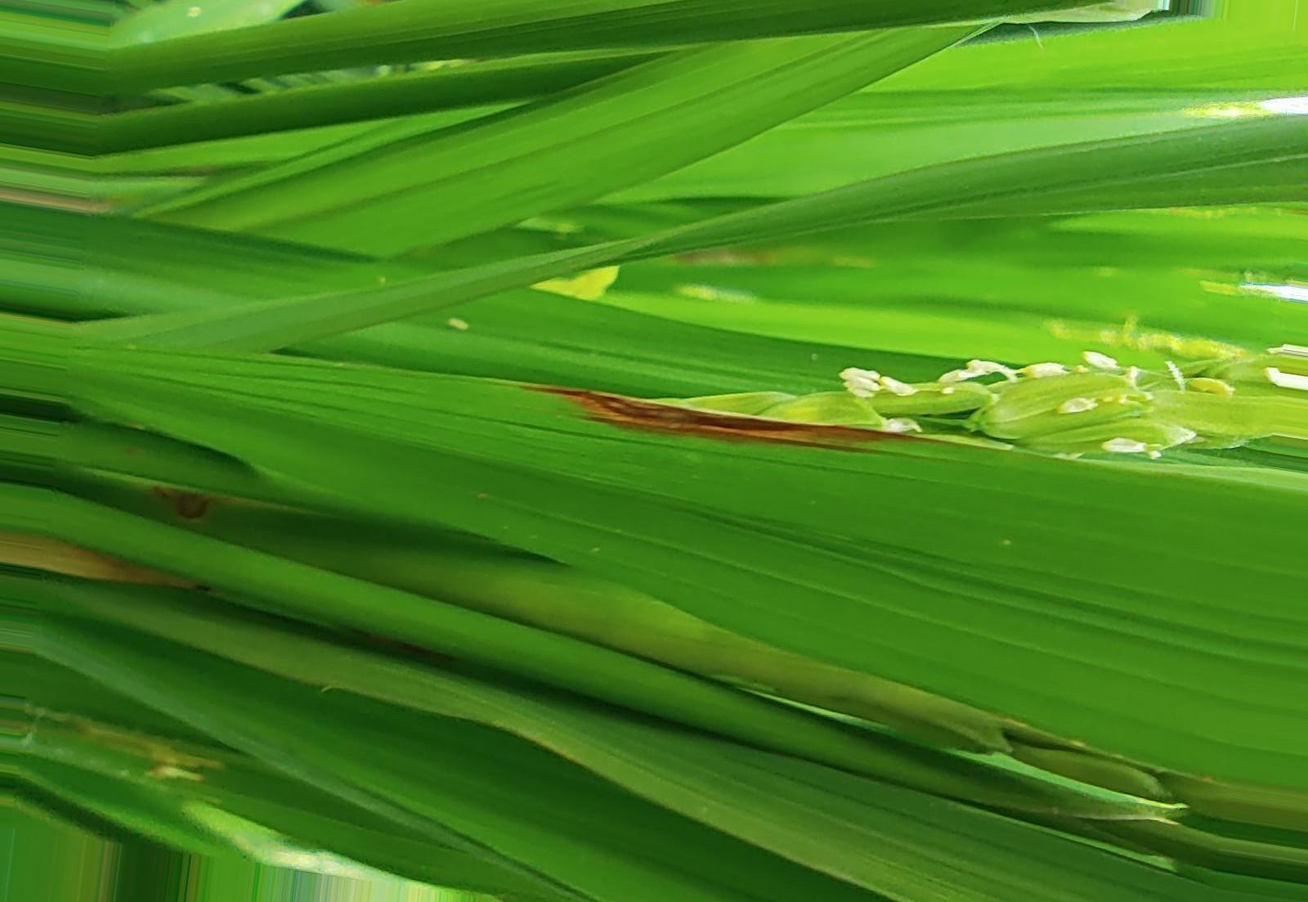LEAF: (73, 348, 1307, 791)
LEAF BLAST: (520, 382, 960, 452)
